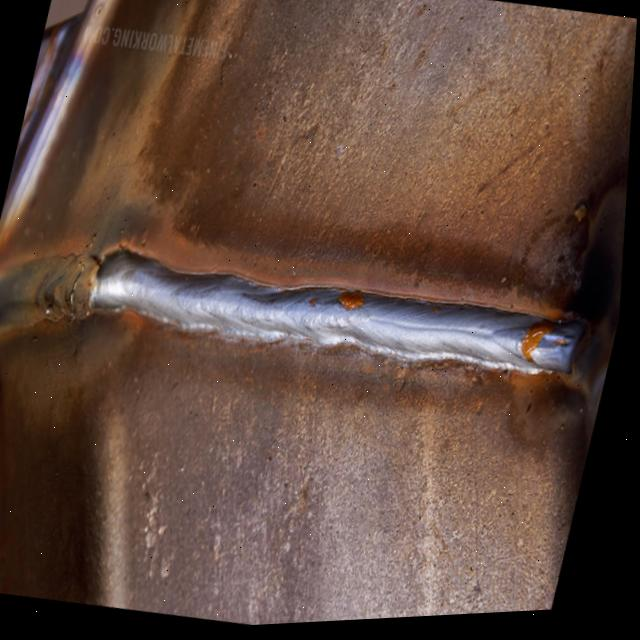Dry: (2, 186, 603, 413)
